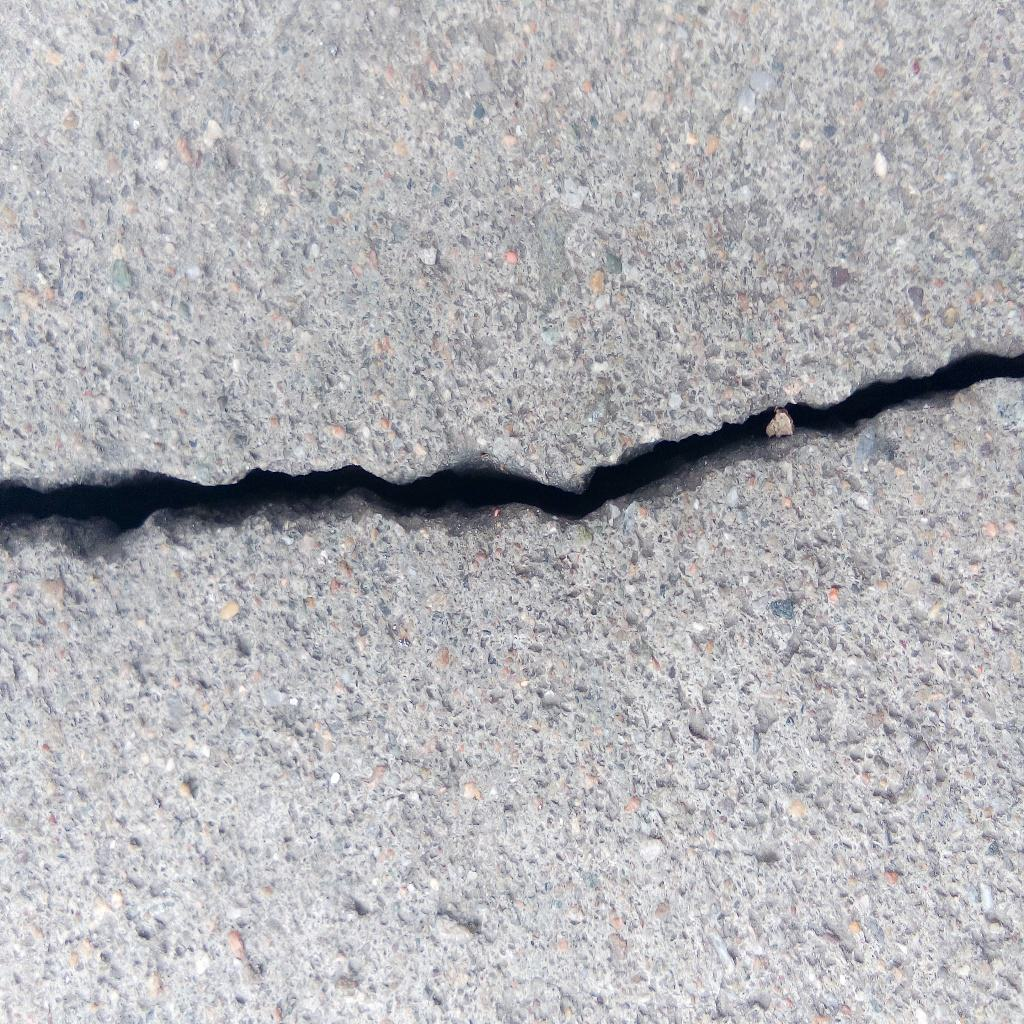Crack: (1, 345, 1024, 566)
